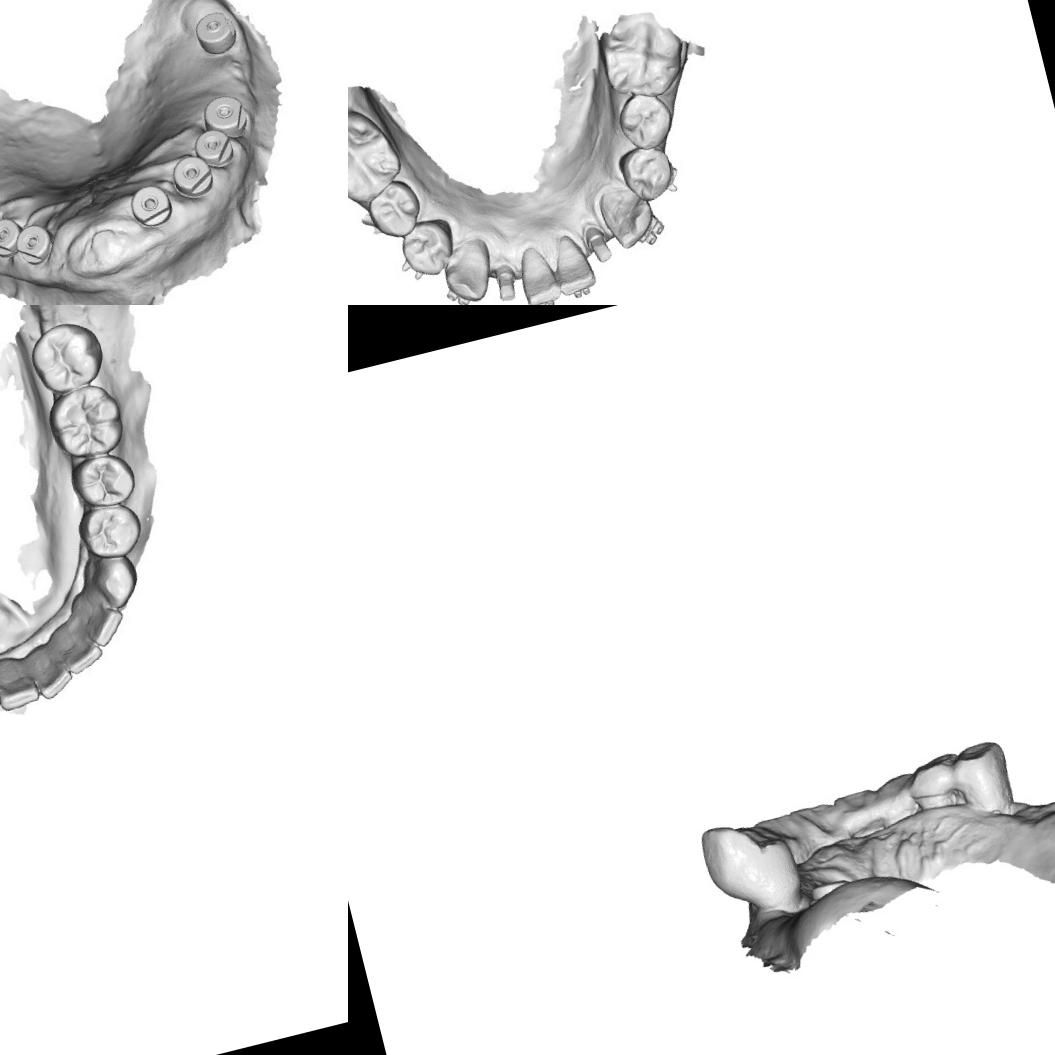abutment: (487, 259, 521, 305), (585, 223, 617, 270)
canine: (592, 176, 664, 258), (75, 546, 142, 617), (436, 239, 496, 305)
implant: (198, 89, 252, 144), (190, 5, 242, 59), (167, 150, 217, 202), (125, 180, 175, 230), (10, 220, 58, 268), (190, 124, 236, 171), (0, 212, 29, 261)
incisor: (24, 634, 80, 705), (513, 238, 563, 305), (76, 591, 130, 653), (0, 647, 47, 715), (56, 619, 107, 679), (548, 231, 594, 293)
molar: (588, 2, 691, 102), (20, 314, 110, 400), (42, 377, 128, 466), (348, 102, 409, 214)
premolar: (60, 446, 140, 517), (73, 495, 148, 566), (360, 172, 429, 243), (393, 213, 461, 284), (611, 138, 678, 202), (614, 90, 678, 149)
